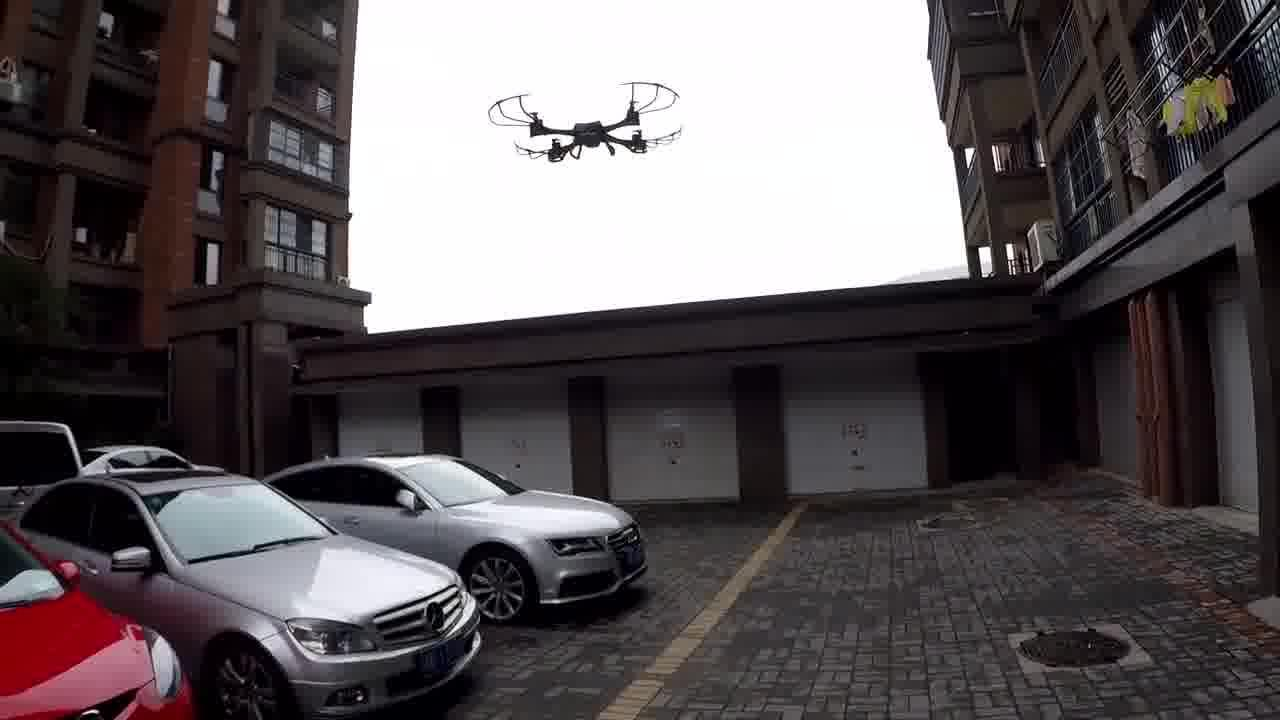drone: (472, 71, 691, 175)
